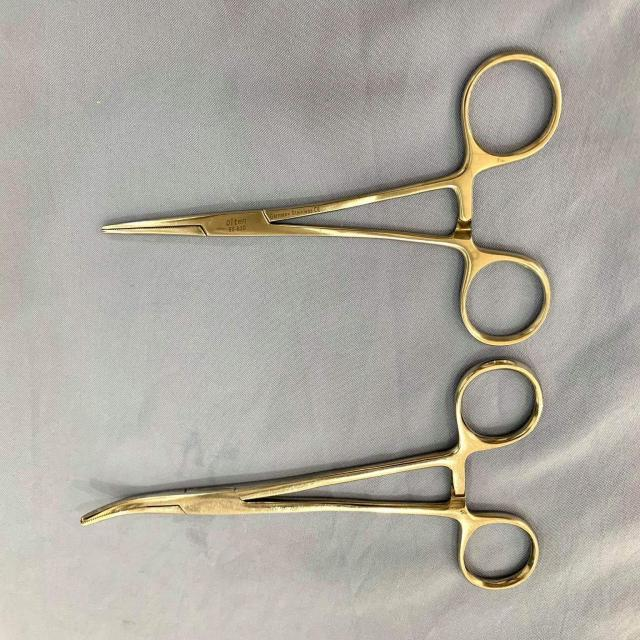Hemostat: (99, 47, 566, 350), (76, 352, 548, 594)
